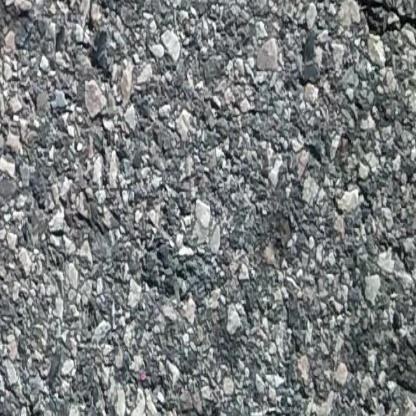Cracks: (340, 0, 416, 41)
